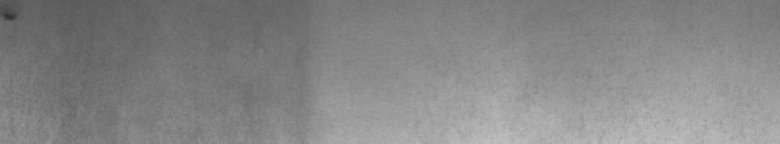fi: (4, 4, 20, 28)
